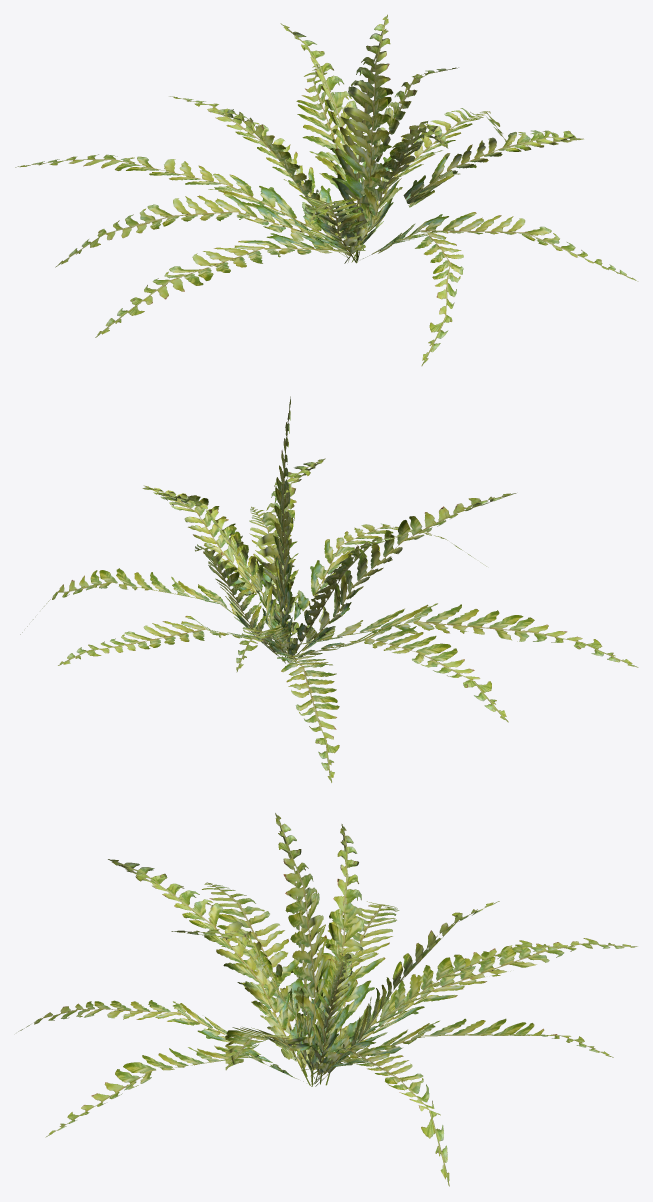
Rendered from plant g.dae.
3 renders of one model, top to bottom at view 1: azimuth 30°, elevation 25°; view 2: azimuth 150°, elevation 25°; view 3: azimuth 270°, elevation 25°, orthographic. The views are drawn at different scales.
Visible parts, largest first — view 1: plant_g; view 2: plant_g; view 3: plant_g.
Part boxes in pixels (<box>): plant_g: <box>15,14,638,366</box>; plant_g: <box>20,396,638,782</box>; plant_g: <box>18,813,637,1186</box>.
Size of the model in its own units: 87.68 by 40.91 by 82.15.
Materials: 1 (1 with a texture image).
